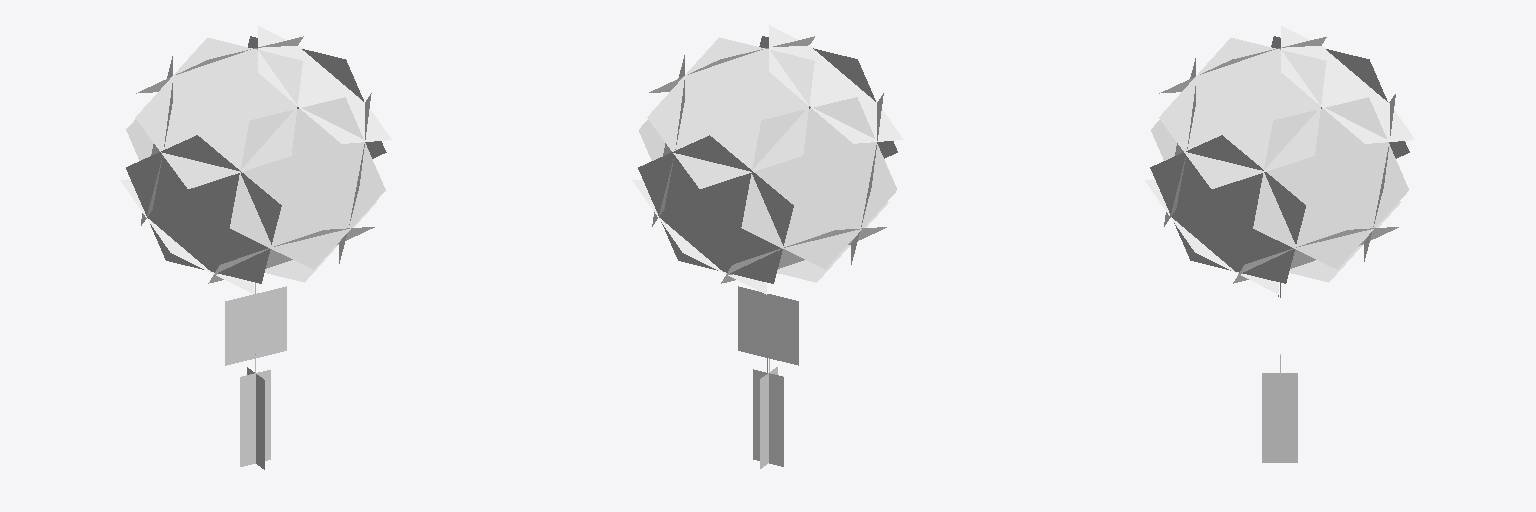
File: lantern1.obj
3 views of the same model, side by side, from view 1: azimuth 30°, elevation 25°; view 2: azimuth 150°, elevation 25°; view 3: azimuth 270°, elevation 25° (orthographic).
Visible parts, largest first — view 1: body_Mesh.016, fu_Mesh.012, bottom_Mesh.011; view 2: body_Mesh.016, fu_Mesh.012, bottom_Mesh.011; view 3: body_Mesh.016, bottom_Mesh.011.
Boxes of the visible parts, x1,y1,x2,y2 form: body_Mesh.016: [120, 26, 391, 293]; fu_Mesh.012: [225, 286, 286, 365]; bottom_Mesh.011: [240, 367, 270, 469]; body_Mesh.016: [632, 25, 903, 294]; fu_Mesh.012: [738, 286, 798, 365]; bottom_Mesh.011: [753, 367, 783, 468]; body_Mesh.016: [1145, 26, 1414, 294]; bottom_Mesh.011: [1262, 373, 1297, 462].
Bounding box in the file's own units: 0.0599 × 0.1013 × 0.06.